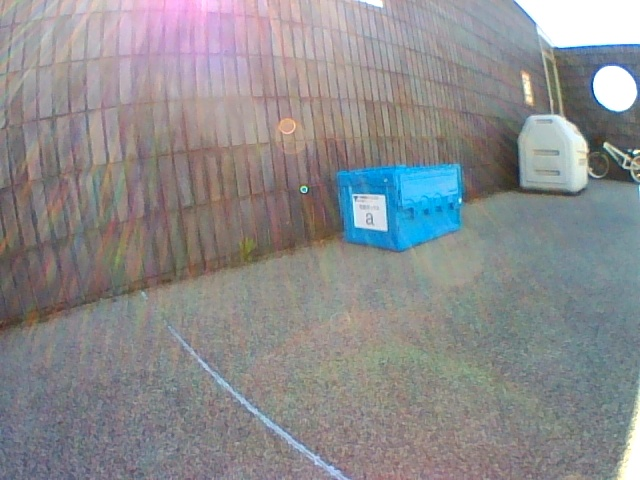blue_box: (338, 163, 462, 250)
tag_a: (354, 197, 386, 227)
